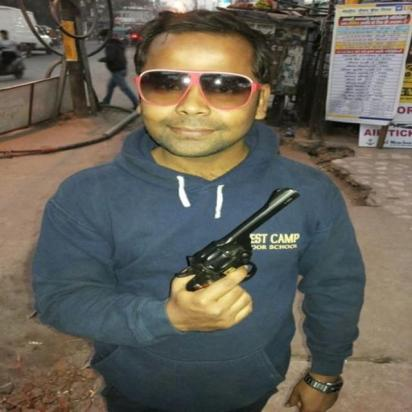Gun: (173, 186, 305, 332)
